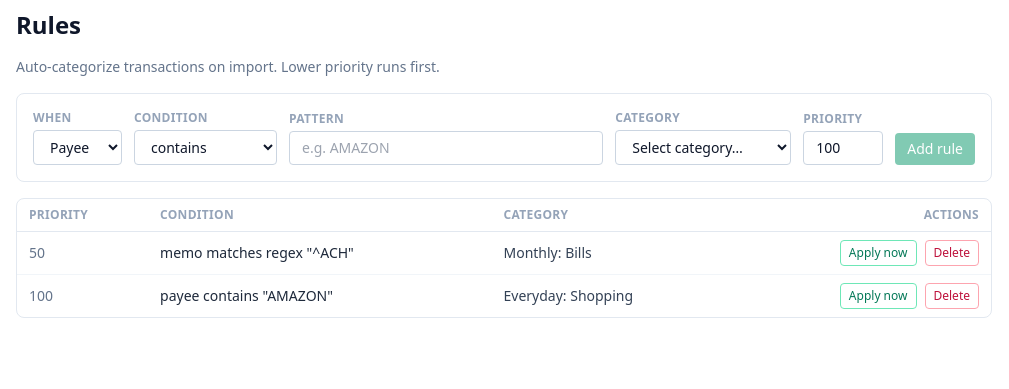
Test: RulesPage › surfaces an error when applying a rule fails
Click the button with aria-label "Apply rule 2".
click(878, 253)  # box [840,240,916,266]
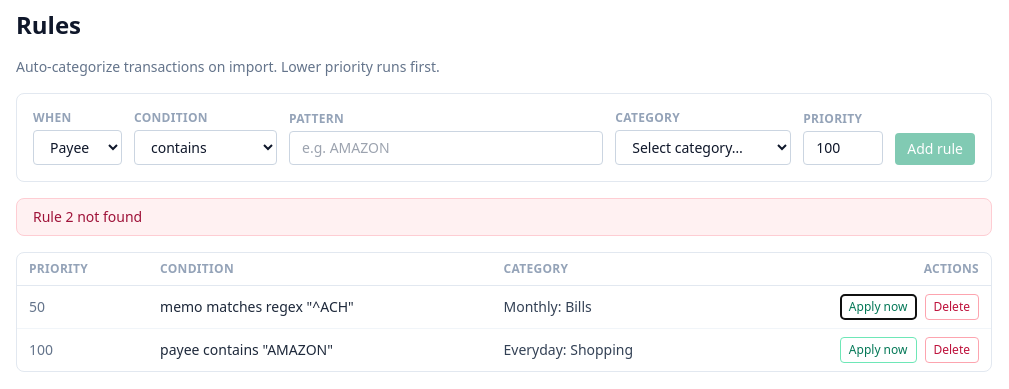
Now the message reads "Rule 2 not found", box [33,207,142,226]
